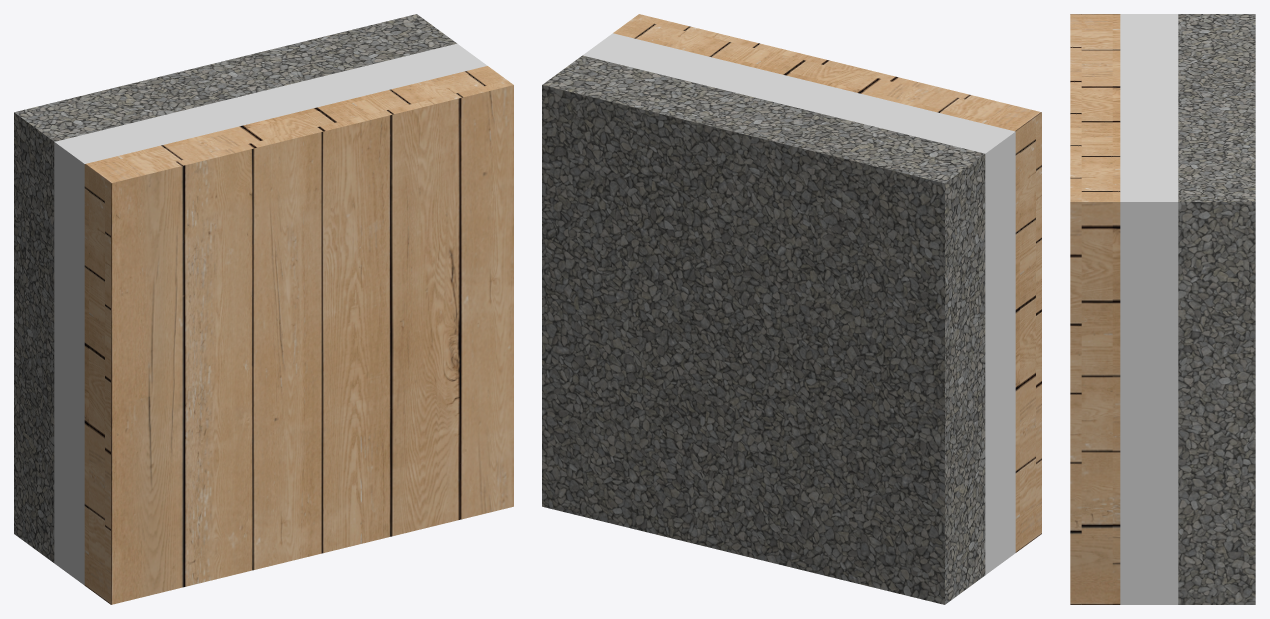
File: SMR_1W.gltf
3 renders of one model, left to right at view 1: azimuth 30°, elevation 25°; view 2: azimuth 150°, elevation 25°; view 3: azimuth 270°, elevation 25°, orthographic. The views are drawn at different scales.
Visible parts, largest first — view 1: Mesh_0, Mesh_3, Mesh_2, Mesh_1; view 2: Mesh_3, Mesh_2, Mesh_1, Mesh_0; view 3: Mesh_3, Mesh_2, Mesh_1, Mesh_0.
Part boxes in pixels (x1=…): Mesh_0: x1=105, y1=80, x2=513, y2=604; Mesh_3: x1=14, y1=14, x2=456, y2=562; Mesh_2: x1=54, y1=43, x2=487, y2=585; Mesh_1: x1=84, y1=66, x2=507, y2=600; Mesh_3: x1=542, y1=55, x2=985, y2=604; Mesh_2: x1=583, y1=33, x2=1015, y2=574; Mesh_1: x1=613, y1=18, x2=1035, y2=552; Mesh_0: x1=633, y1=14, x2=1041, y2=537; Mesh_3: x1=1178, y1=14, x2=1255, y2=604; Mesh_2: x1=1120, y1=14, x2=1178, y2=604; Mesh_1: x1=1081, y1=14, x2=1120, y2=604; Mesh_0: x1=1070, y1=14, x2=1081, y2=604.
Bounding box in the file's own units: 1.15 × 1.15 × 0.48.
3 materials, 2 textured.
